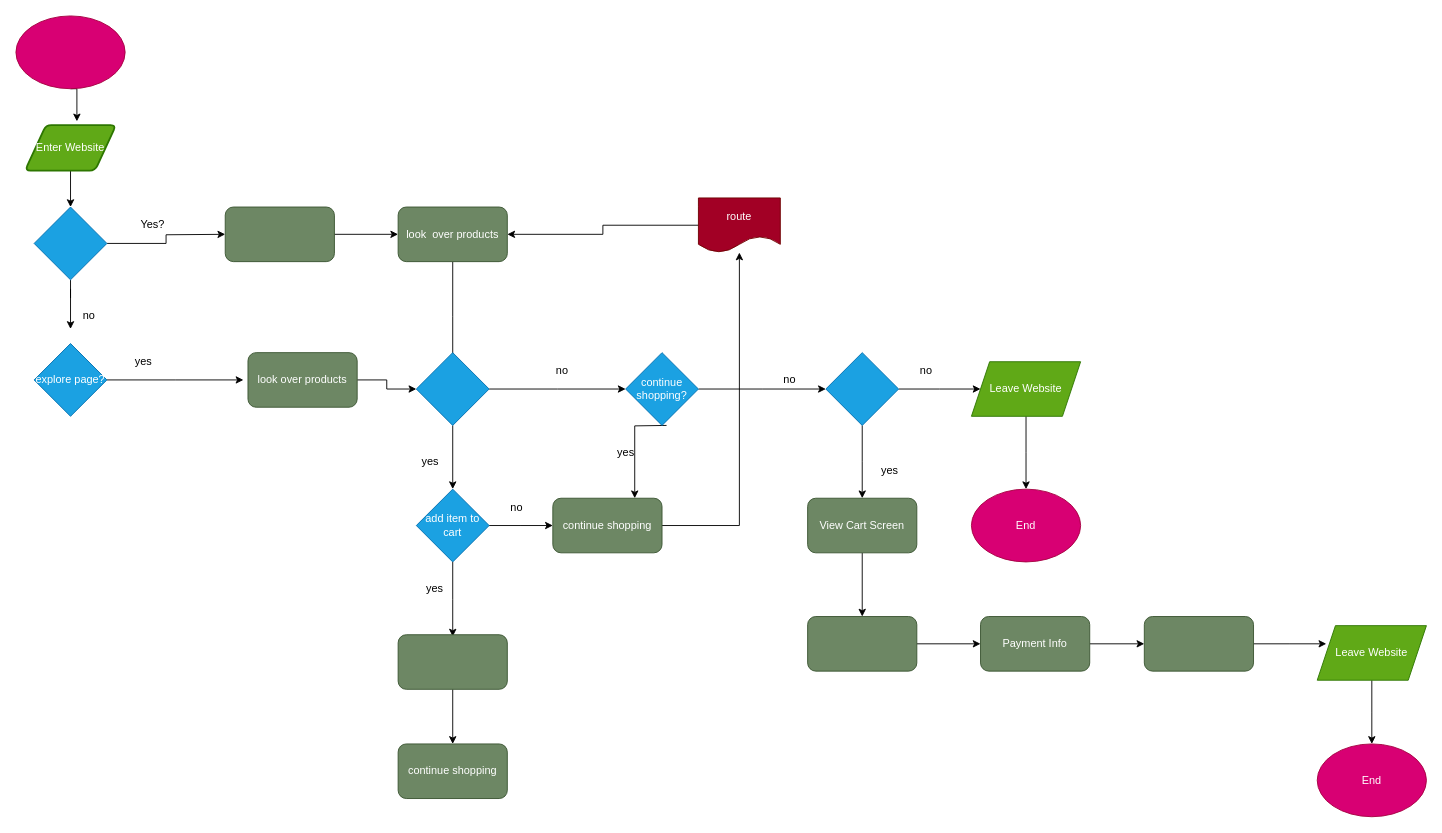
Some shapes in this 1442 by 833 pixel diagram are drawn without their labels. The centre of each missing label's shape, as x and y in pixels:
"added to cart confirmation" goes at pixel 452 661.
"checkout?" goes at pixel 862 388.
"Order Confirmation/email" goes at pixel 1198 643.
"Provide Input for search" goes at pixel 279 234.
"search for product?" goes at pixel 70 243.
"Start" goes at pixel 70 52.
"View payment screen" goes at pixel 862 643.
"view product" goes at pixel 452 388.
